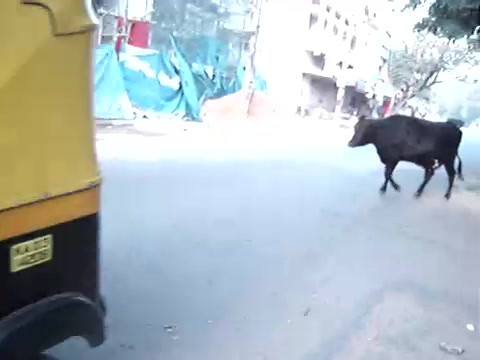cow: (348, 115, 467, 201)
